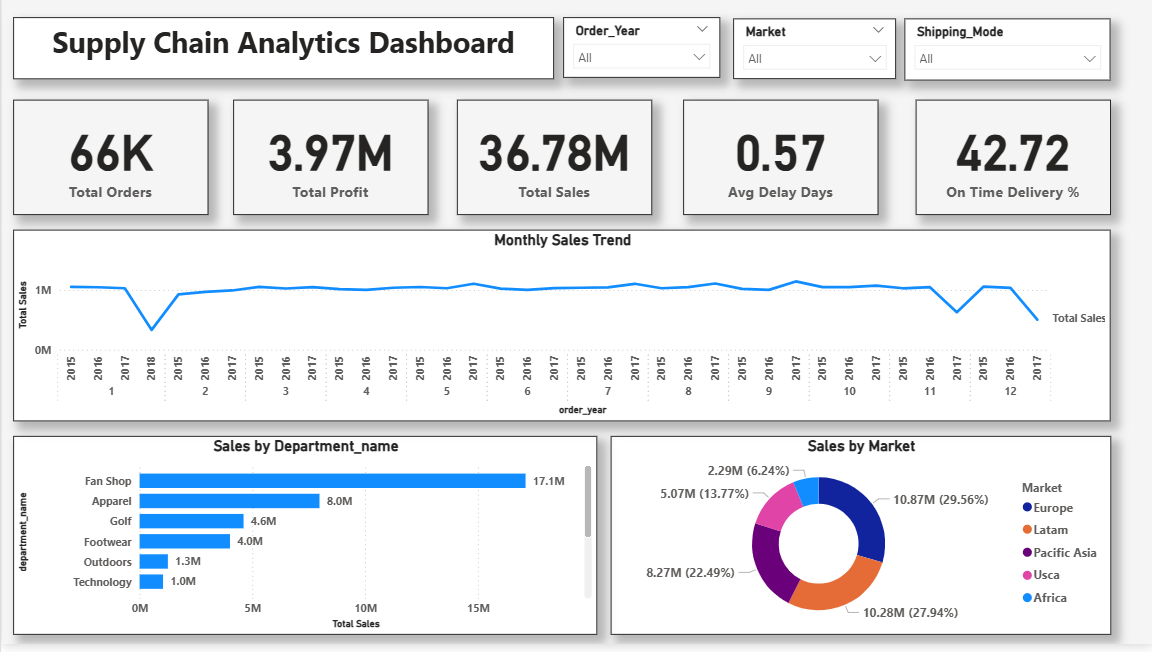

Layout of this report page (visuals, bound fields, positions):
{"tool":"powerbi","page":{"name":"Exective Overview","canvas":[1280,720],"ordinal":0},"visuals":[{"type":"card","fields":{"Values":["fact_orders.Total Orders"]},"box":[12.3,115.3,216.8,127.6],"z":0},{"type":"card","fields":{"Values":["fact_orders.Total Profit"]},"box":[256.6,115.3,216.8,127.6],"z":1000},{"type":"card","fields":{"Values":["fact_orders.Total Sales"]},"box":[505,115.3,216.8,127.6],"z":2000},{"type":"card","fields":{"Values":["fact_orders.Avg Delay Days"]},"box":[757.5,115.3,216.8,127.6],"z":3000},{"type":"card","fields":{"Values":["fact_orders.On Time Delivery %"]},"box":[1015.4,115.3,216.8,127.6],"z":4000},{"type":"donutChart","title":"Sales by Market","fields":{"Category":["fact_orders.market"],"Y":["fact_orders.Total Sales"]},"box":[676.5,488.5,555.7,220.9],"z":5000},{"type":"clusteredBarChart","title":"Sales by Department_name","fields":{"Category":["dim_products.department_name"],"Y":["fact_orders.Total Sales"]},"box":[12.3,488.5,649.1,220.9],"z":6000},{"type":"lineChart","title":"Monthly Sales Trend","fields":{"Category":["fact_orders.order_month","fact_orders.order_year"],"Y":["fact_orders.Total Sales"]},"box":[12.5,259.7,1219.4,212.5],"z":7000},{"type":"textbox","box":[12.3,23.3,601,68.6],"z":8000},{"type":"slicer","fields":{"Values":["fact_orders.order_year"]},"box":[623,23.3,174.3,67.2],"z":9000},{"type":"slicer","fields":{"Values":["fact_orders.market"]},"box":[812.4,24.7,181.1,67.2],"z":10000},{"type":"slicer","fields":{"Values":["fact_orders.shipping_mode"]},"box":[1003.1,24.7,229.2,68.6],"z":11000}]}

Visuals, with their boxes in screenshot pixels (x1, y1, x2, y2), scaled from the page's 1280x720 canvas onto the 1152x652 screenshot:
card - fact_orders.Total Orders: bbox=(11, 104, 206, 220)
card - fact_orders.Total Profit: bbox=(231, 104, 426, 220)
card - fact_orders.Total Sales: bbox=(454, 104, 650, 220)
card - fact_orders.Avg Delay Days: bbox=(682, 104, 877, 220)
card - fact_orders.On Time Delivery %: bbox=(914, 104, 1109, 220)
"Sales by Market" donutChart: bbox=(609, 442, 1109, 642)
"Sales by Department_name" clusteredBarChart: bbox=(11, 442, 595, 642)
"Monthly Sales Trend" lineChart: bbox=(11, 235, 1109, 428)
textbox: bbox=(11, 21, 552, 83)
slicer - fact_orders.order_year: bbox=(561, 21, 718, 82)
slicer - fact_orders.market: bbox=(731, 22, 894, 83)
slicer - fact_orders.shipping_mode: bbox=(903, 22, 1109, 84)
